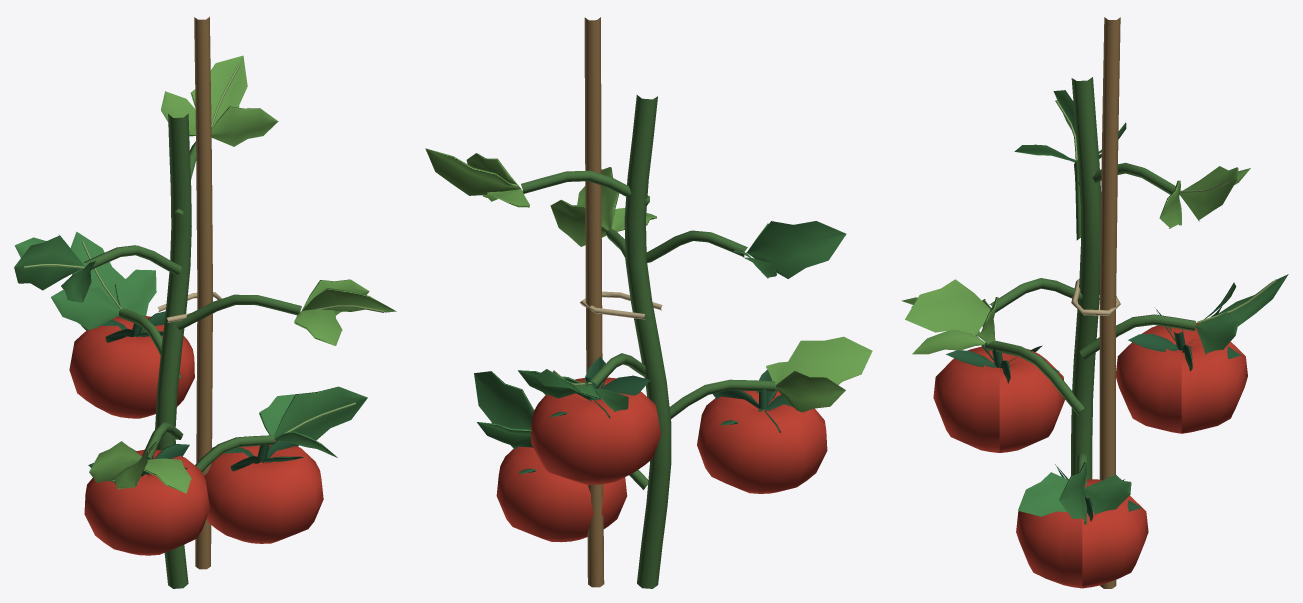
File: tomate_3.glb
3 views of the same model, side by side, from view 1: azimuth 30°, elevation 25°; view 2: azimuth 150°, elevation 25°; view 3: azimuth 270°, elevation 25° (orthographic). The views are drawn at different scales.
Visible parts, largest first — view 1: tomate_3_mata_0; view 2: tomate_3_mata_0; view 3: tomate_3_mata_0.
Boxes of the visible parts, box(x1,y1,x2,y2) form: tomate_3_mata_0: box(14, 17, 396, 588); tomate_3_mata_0: box(425, 17, 872, 588); tomate_3_mata_0: box(901, 17, 1288, 588).
Size of the model in its own units: 0.6812 by 1 by 0.6174.
